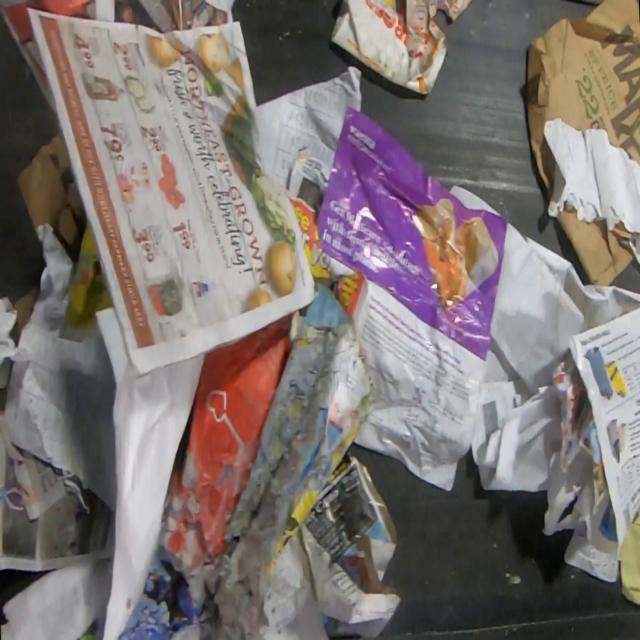cardboard: (526, 0, 640, 203), (329, 0, 449, 95), (16, 133, 87, 266), (554, 204, 633, 287)
